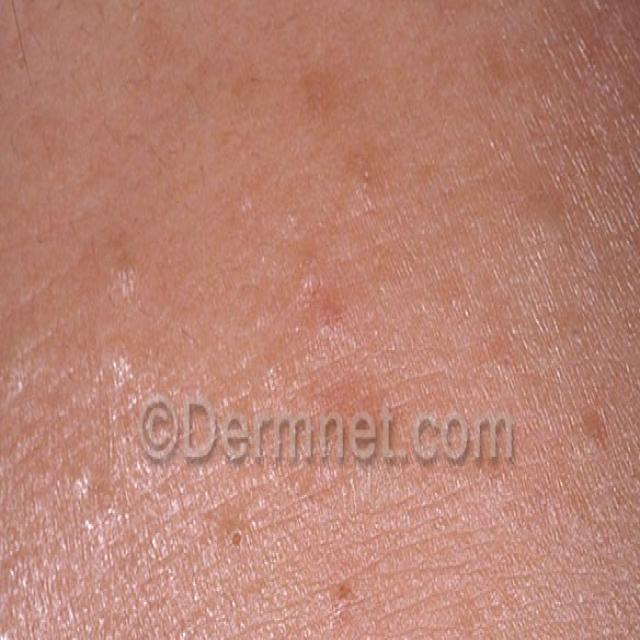Acne: (506, 138, 640, 321), (338, 120, 408, 240), (85, 204, 146, 329), (313, 281, 378, 374), (215, 521, 294, 569), (577, 388, 621, 472), (319, 562, 363, 640)
